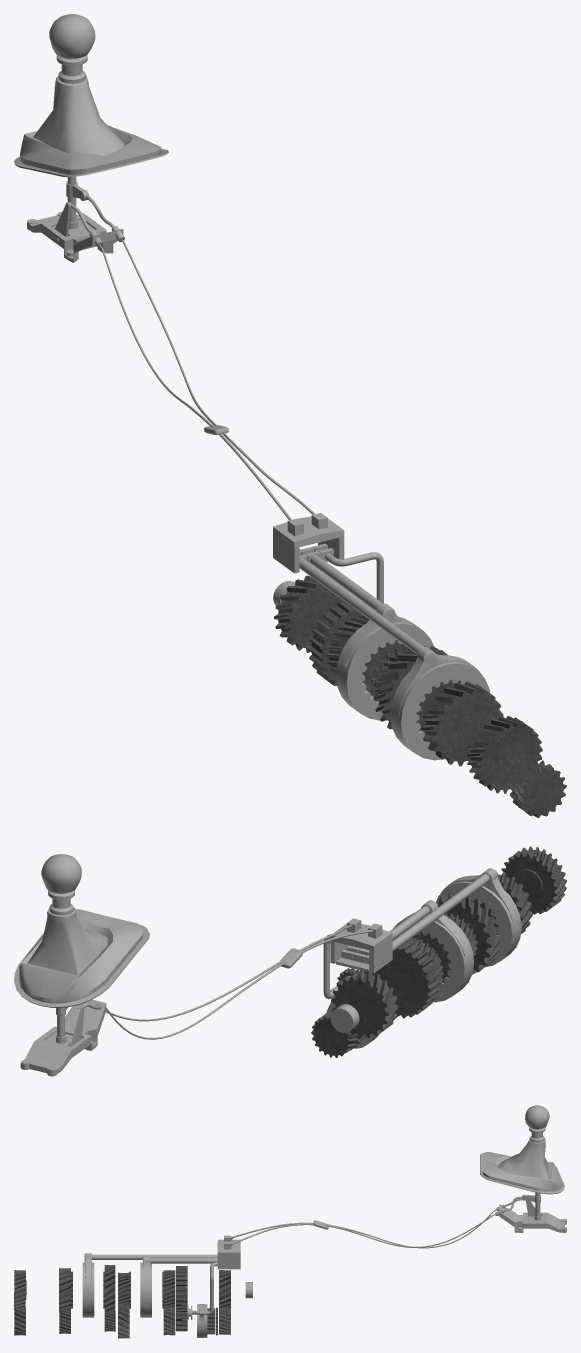
Rendered from Sistema_Cambio.fbx.
3 renders of one model, top to bottom at view 1: azimuth 30°, elevation 25°; view 2: azimuth 150°, elevation 25°; view 3: azimuth 270°, elevation 25°, orthographic. The views are drawn at different scales.
Parts seen in each view (by area): view 1: Coifa, Peca_Marchas_Ponta, Trambulador, Peca_Marchas_Meio, GearboxGear1, GearboxGear2, GearboxGear21, Capa, GearboxSecondaryShaft, GearboxGear17, Manopla, GearboxGear3 (+1 smaller); view 2: Coifa, Trambulador, Peca_Marchas_Ponta, Peca_Marchas_Meio, GearboxGear17, GearboxGear21, GearboxGear1, GearboxGear3, Capa, Manopla, GearboxSecondaryShaft, Peca_Marchas_Ultima (+6 smaller); view 3: Coifa, Trambulador, GearboxSecondaryShaft, Peca_Marchas_Ponta, Peca_Marchas_Meio, Peca_Marchas_Ultima, Capa, GearboxGear3, GearboxGear2, GearboxGear17, Manopla, GearboxGear5 (+3 smaller).
Part boxes in pixels (x1=…): Coifa: x1=14, y1=75, x2=168, y2=176; Peca_Marchas_Ponta: x1=299, y1=551, x2=489, y2=760; Trambulador: x1=27, y1=181, x2=327, y2=536; Peca_Marchas_Meio: x1=299, y1=547, x2=433, y2=720; GearboxGear1: x1=467, y1=716, x2=542, y2=793; GearboxGear2: x1=421, y1=681, x2=503, y2=766; GearboxGear21: x1=274, y1=575, x2=345, y2=652; Capa: x1=273, y1=516, x2=344, y2=573; GearboxSecondaryShaft: x1=471, y1=760, x2=566, y2=817; GearboxGear17: x1=308, y1=601, x2=374, y2=685; Manopla: x1=49, y1=14, x2=95, y2=58; GearboxGear3: x1=374, y1=645, x2=447, y2=729; Coifa: x1=14, y1=908, x2=149, y2=1007; Trambulador: x1=20, y1=918, x2=382, y2=1076; Peca_Marchas_Ponta: x1=359, y1=868, x2=521, y2=972; Peca_Marchas_Meio: x1=347, y1=900, x2=474, y2=1002; GearboxGear17: x1=363, y1=941, x2=439, y2=1018; GearboxGear21: x1=331, y1=970, x2=398, y2=1038; GearboxGear1: x1=501, y1=846, x2=566, y2=914; GearboxGear3: x1=437, y1=893, x2=500, y2=974; Capa: x1=330, y1=923, x2=392, y2=973; Manopla: x1=41, y1=854, x2=81, y2=893; GearboxSecondaryShaft: x1=311, y1=1009, x2=399, y2=1057; Peca_Marchas_Ultima: x1=323, y1=934, x2=379, y2=1048; Coifa: x1=480, y1=1138, x2=564, y2=1194; Trambulador: x1=224, y1=1194, x2=566, y2=1249; GearboxSecondaryShaft: x1=14, y1=1304, x2=230, y2=1338; Peca_Marchas_Ponta: x1=82, y1=1253, x2=217, y2=1317; Peca_Marchas_Meio: x1=140, y1=1256, x2=217, y2=1317; Peca_Marchas_Ultima: x1=187, y1=1262, x2=217, y2=1337; Capa: x1=217, y1=1239, x2=240, y2=1269; GearboxGear3: x1=104, y1=1265, x2=115, y2=1312; GearboxGear2: x1=59, y1=1268, x2=70, y2=1311; GearboxGear17: x1=176, y1=1266, x2=187, y2=1311; Manopla: x1=525, y1=1105, x2=549, y2=1129; GearboxGear5: x1=163, y1=1270, x2=175, y2=1307.
Bounding box in the file's own units: 15.14 × 43.06 × 91.75.
